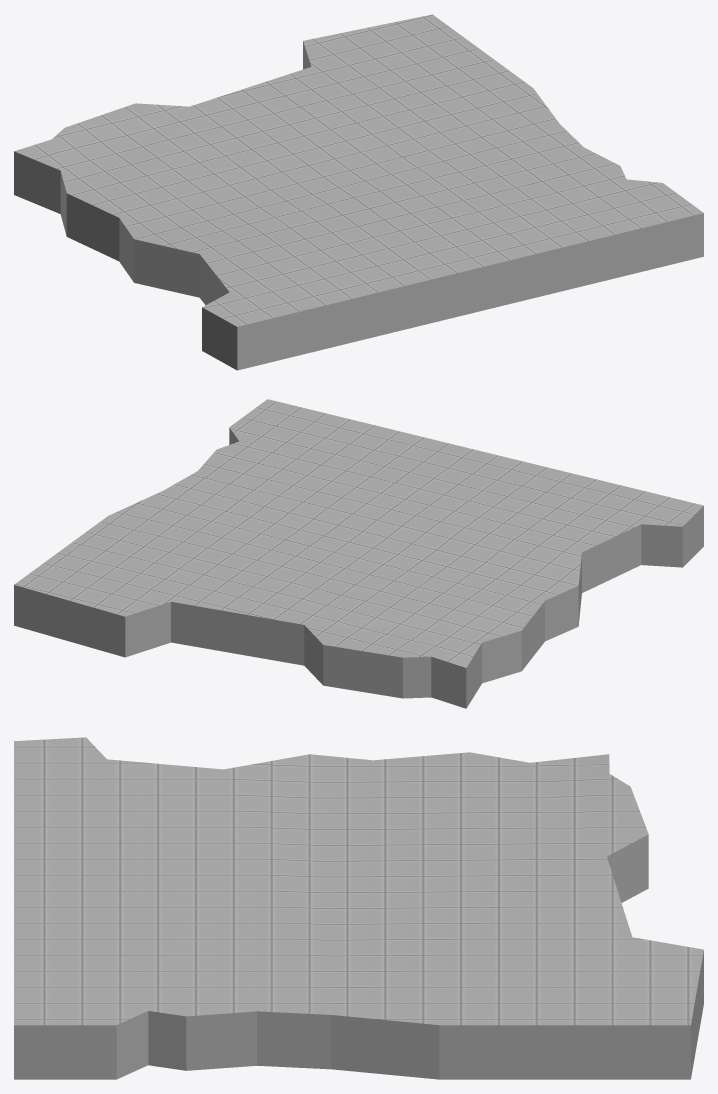
The model's file is Floor3.fbx.
3 views of the same model, one above another, from view 1: azimuth 30°, elevation 25°; view 2: azimuth 150°, elevation 25°; view 3: azimuth 270°, elevation 25° (orthographic). The views are drawn at different scales.
Visible parts, largest first — view 1: Floor3; view 2: Floor3; view 3: Floor3.
Boxes of the visible parts, <box> form: Floor3: <box>14,14,703,370</box>; Floor3: <box>14,399,703,708</box>; Floor3: <box>14,737,703,1079</box>.
Size of the model in its own units: 1250 by 118 by 1266.
